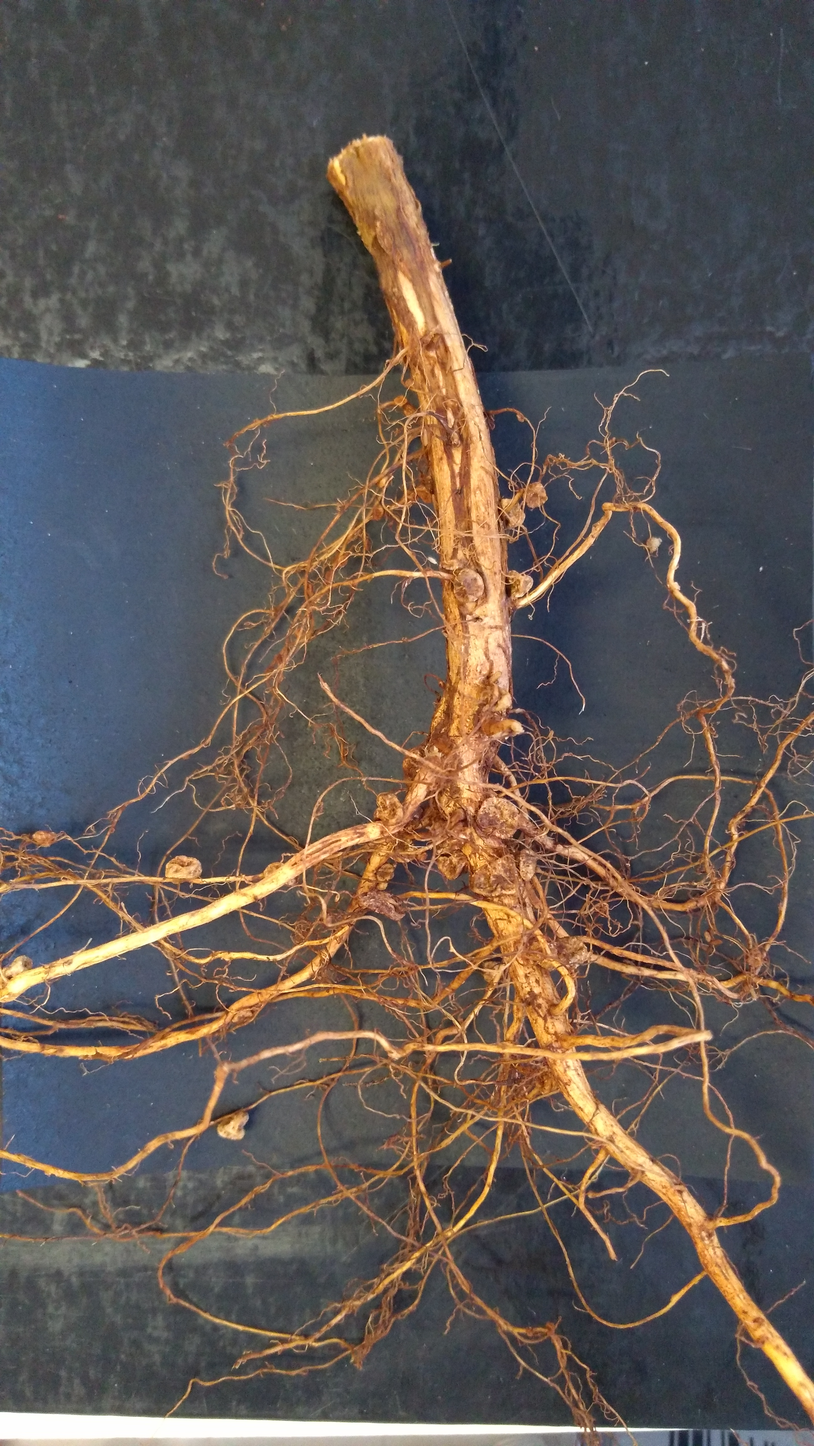nodule: (468, 853, 520, 898), (473, 795, 522, 841), (552, 935, 591, 972), (360, 890, 405, 921), (451, 566, 486, 604), (215, 1109, 252, 1144), (163, 854, 207, 883), (371, 792, 406, 826), (483, 717, 529, 742), (262, 860, 301, 888), (434, 851, 468, 883), (402, 742, 428, 783), (2, 949, 35, 981), (499, 497, 527, 531), (505, 569, 534, 599), (522, 480, 549, 511), (518, 846, 539, 883), (534, 1069, 561, 1095), (490, 687, 515, 714), (375, 861, 395, 892), (482, 957, 507, 981), (32, 827, 57, 849), (413, 483, 434, 505), (229, 1007, 254, 1024), (646, 536, 663, 553), (370, 506, 388, 522), (444, 406, 456, 429), (402, 402, 418, 419), (375, 474, 392, 490), (393, 394, 409, 408), (336, 554, 349, 569), (514, 413, 526, 424), (405, 376, 415, 389)
